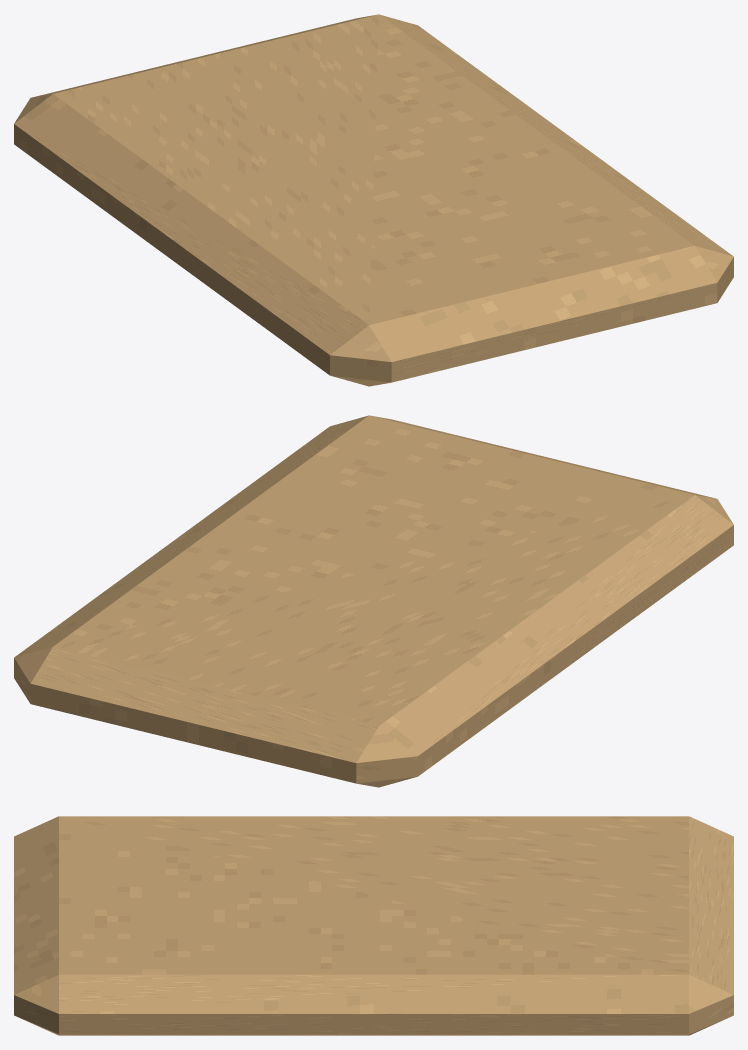
File: flatbread.glb
3 renders of one model, top to bottom at view 1: azimuth 30°, elevation 25°; view 2: azimuth 150°, elevation 25°; view 3: azimuth 270°, elevation 25°, orthographic.
Visible parts, largest first — view 1: block_baked crust; view 2: block_baked crust; view 3: block_baked crust.
Part boxes in pixels (x1,y1,x2,y2): block_baked crust: (14, 14, 733, 386); block_baked crust: (14, 415, 733, 787); block_baked crust: (14, 816, 733, 1035).
Size of the model in its own units: 0.0445 by 0.00646 by 0.0689.
Materials: 1 (1 with a texture image).
